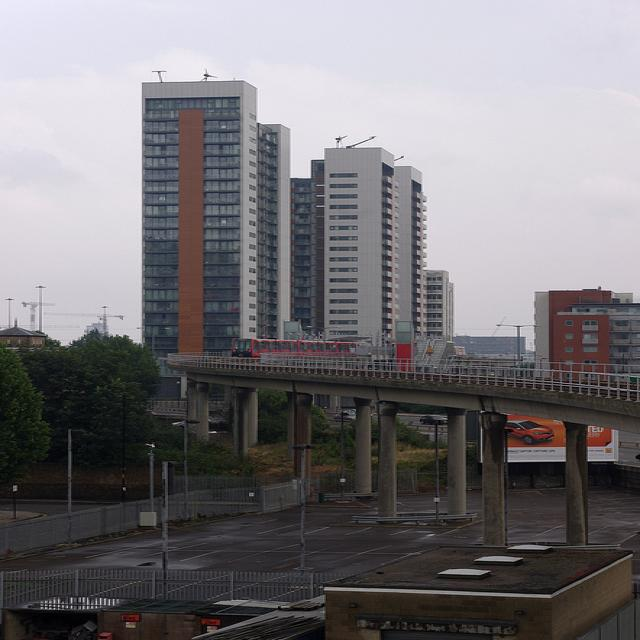Vehicle: (226, 334, 361, 357), (419, 415, 448, 425), (334, 412, 356, 420)
